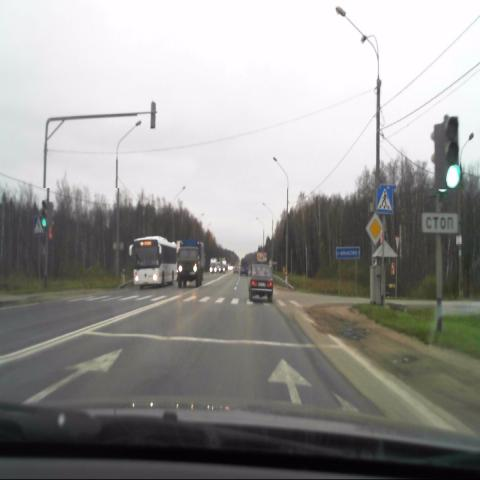2_1: (366, 215, 383, 244)
5_19_1: (377, 186, 393, 214), (33, 216, 44, 236)
6_16: (421, 214, 458, 234)
